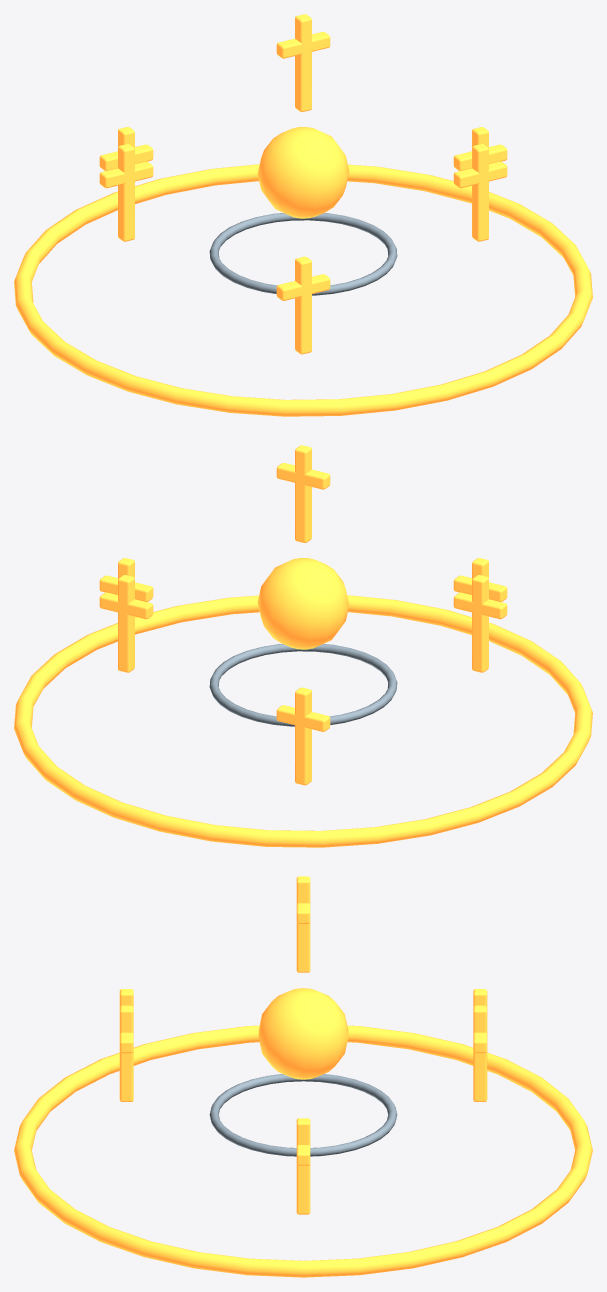
The model's file is moonsteel-convergence-renewal-pulse-f1d94091__18217.glb.
3 views of the same model, one above another, from view 1: azimuth 30°, elevation 25°; view 2: azimuth 150°, elevation 25°; view 3: azimuth 270°, elevation 25° (orthographic).
Parts seen in each view (by area): view 1: renewal-pulse; view 2: renewal-pulse; view 3: renewal-pulse.
Part boxes in pixels (<box>): renewal-pulse: <box>14,14,592,416</box>; renewal-pulse: <box>14,445,592,847</box>; renewal-pulse: <box>14,876,592,1277</box>.
Size of the model in its own units: 2.27 by 0.84 by 2.27.
